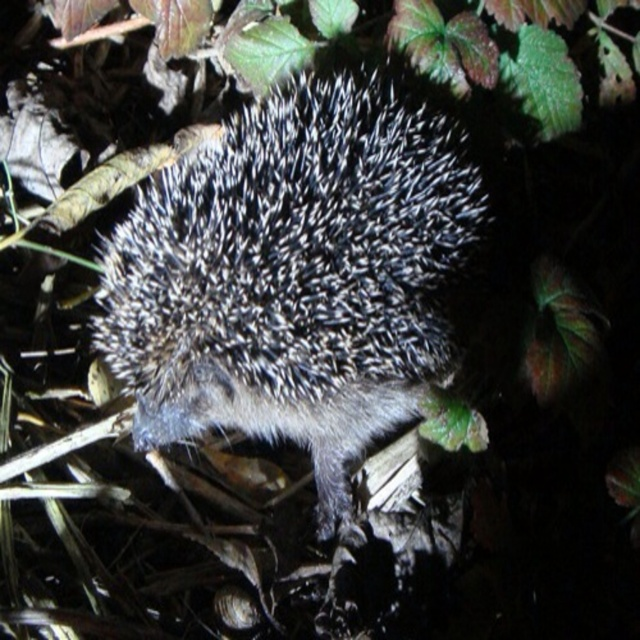Hedgehog: (87, 56, 496, 543)
